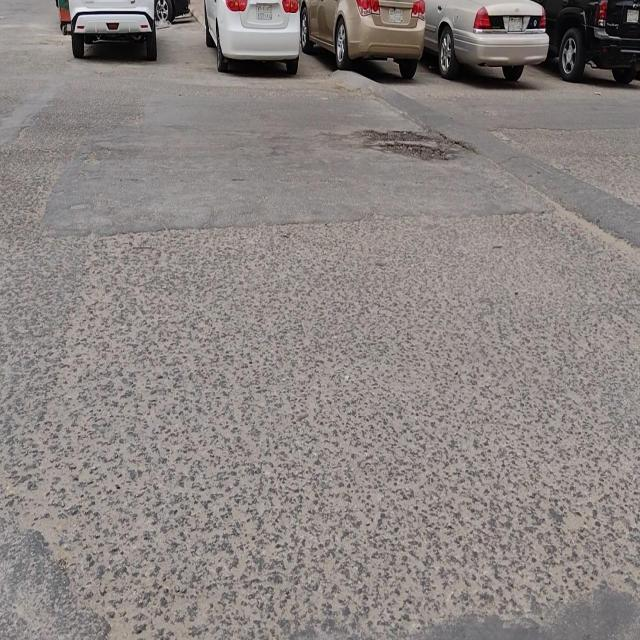Potholes: (358, 130, 449, 166)
